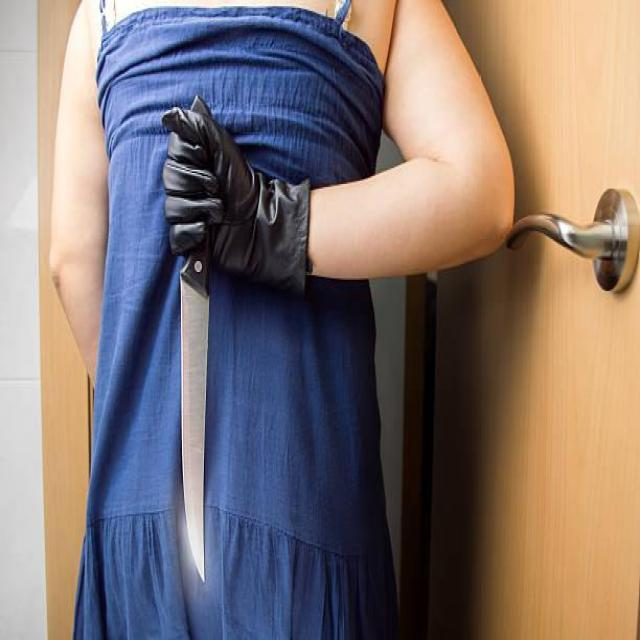faca: (132, 87, 266, 600)
